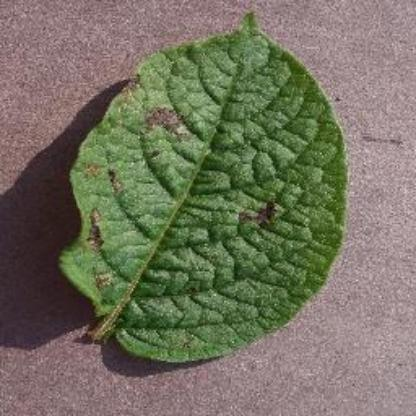Late-Blight: (49, 13, 357, 385)
